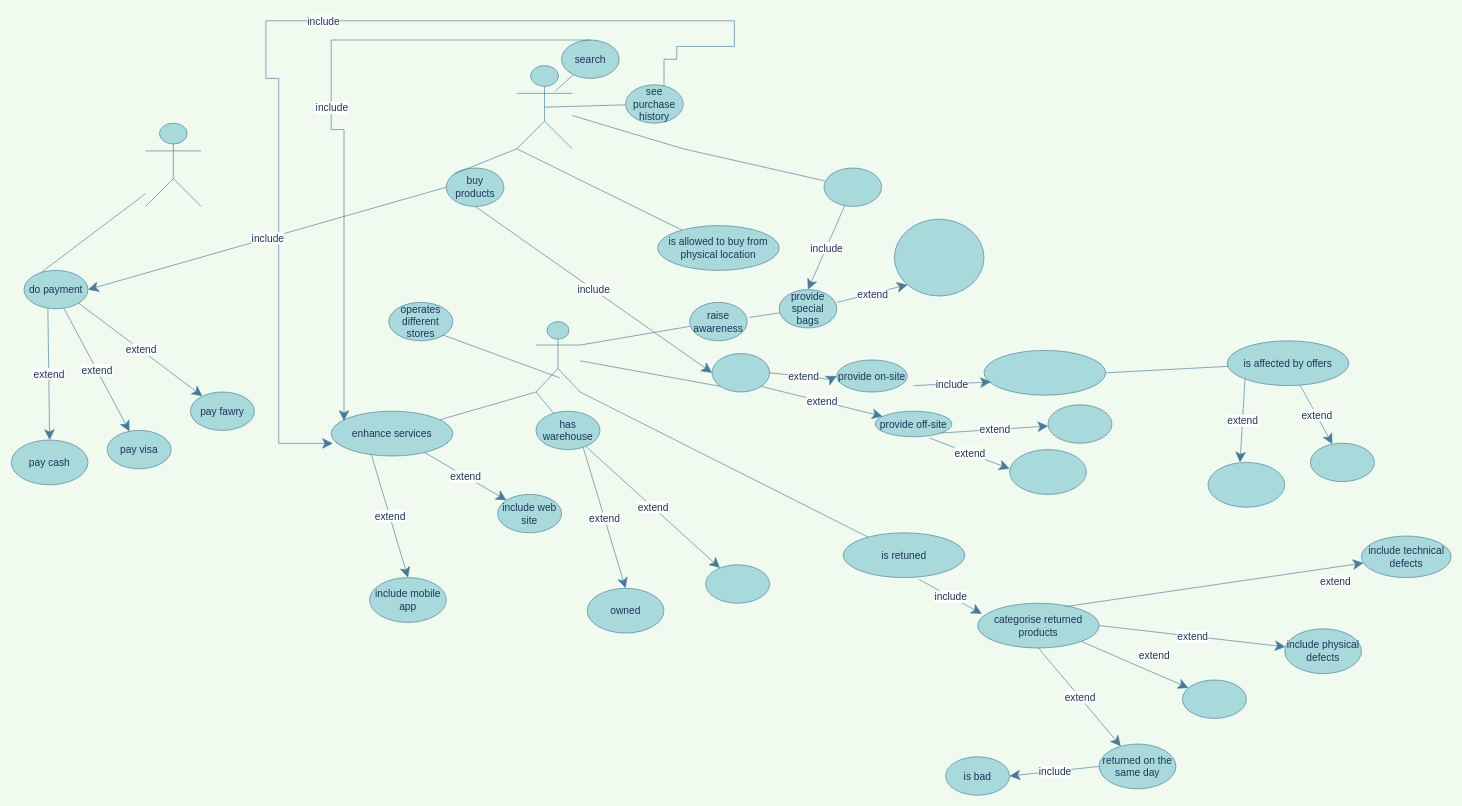
Some shapes in this 1462 by 806 pixel diagram are drawn without their labels. The box of each missing label's shape, as (x1, y1, x2, y2) in pixels:
achieve through mobile app: (1009, 449, 1086, 494)
achieve through web site: (1047, 404, 1112, 443)
allow customer to buy from physical location: (983, 350, 1106, 395)
Corporate: (535, 321, 580, 392)
customer: (516, 65, 572, 149)
gain points: (823, 167, 882, 206)
is affected by global event: (1310, 443, 1374, 482)
is affected by local event: (1207, 462, 1285, 507)
not accepted: (1182, 679, 1246, 718)
payment customer: (145, 123, 201, 206)
provide services: (711, 353, 770, 392)
reduse plastic wasted and resycle: (894, 219, 984, 296)
rented: (705, 564, 770, 603)
